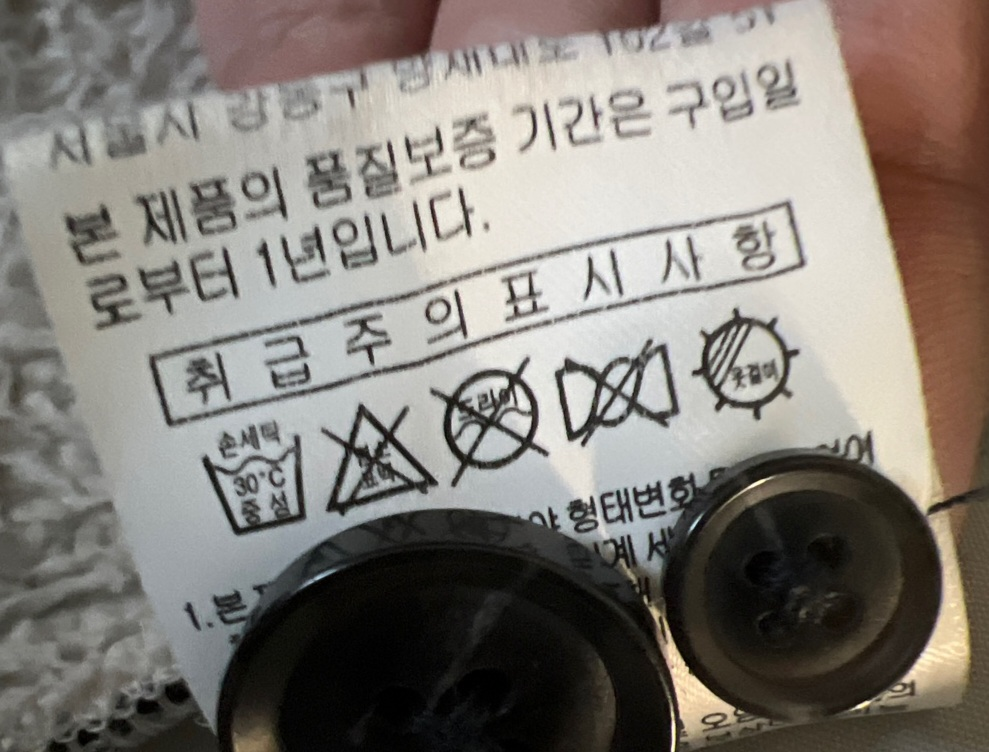KR_hand_wash_30_neutral: (197, 417, 310, 542)
KR_hang_dry_in_shade: (691, 308, 803, 423)
KR_no_chlorine_bleach: (317, 404, 438, 510)
KR_no_dry_clean: (431, 366, 555, 479)
KR_no_wring: (547, 339, 689, 444)
